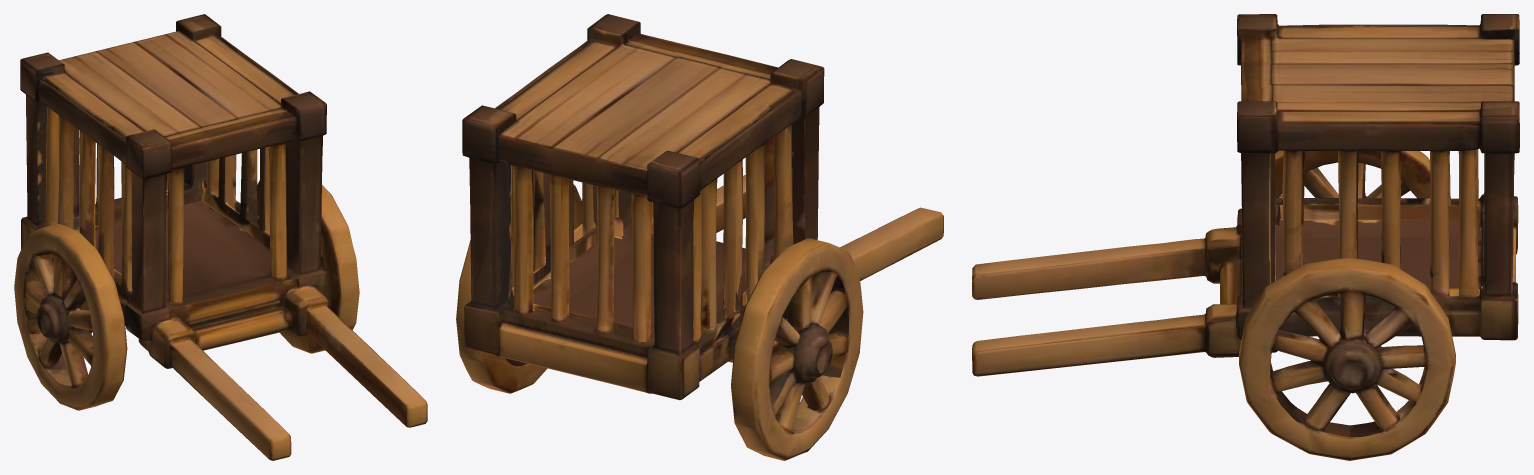
The model's file is prison-cart.glb.
3 renders of one model, left to right at view 1: azimuth 30°, elevation 25°; view 2: azimuth 150°, elevation 25°; view 3: azimuth 270°, elevation 25°, orthographic. The views are drawn at different scales.
Visible parts, largest first — view 1: 1_output_1793793812715027_FLoENsOIY; view 2: 1_output_1793793812715027_FLoENsOIY; view 3: 1_output_1793793812715027_FLoENsOIY.
Part boxes in pixels (box(x1,y1,x2,y2)): 1_output_1793793812715027_FLoENsOIY: box(14, 14, 427, 460); 1_output_1793793812715027_FLoENsOIY: box(456, 14, 943, 460); 1_output_1793793812715027_FLoENsOIY: box(972, 14, 1519, 460).
Bounding box in the file's own units: 1.36 × 1.31 × 1.99.
1 material, 1 textured.
